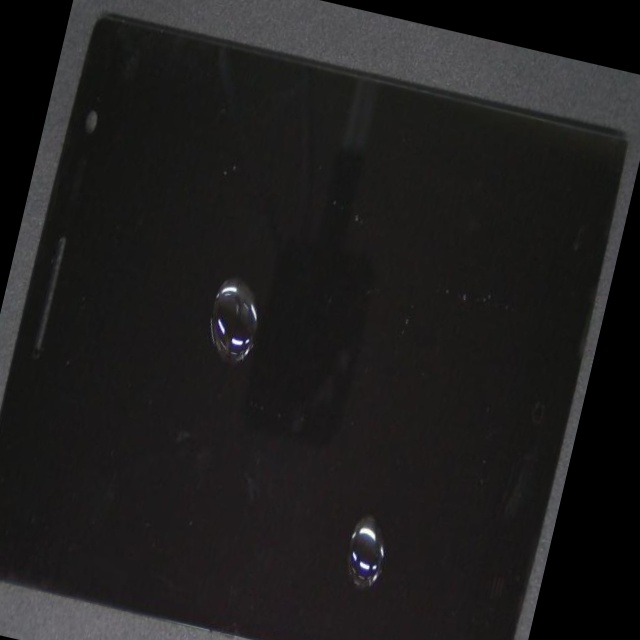oil: (155, 269, 596, 640), (121, 128, 406, 455)
